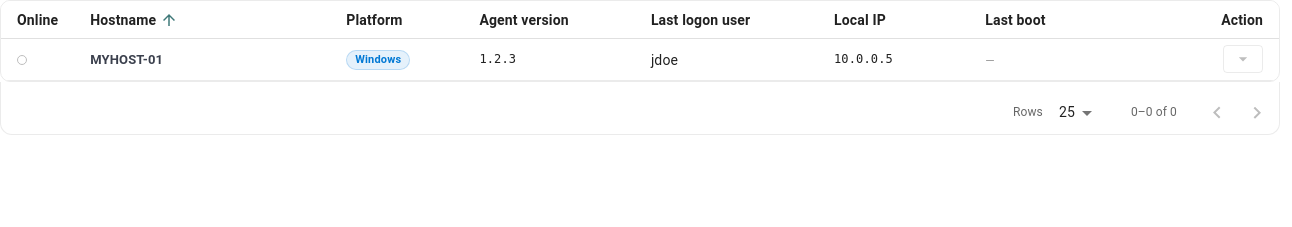
Test case: More actions menu › lists Patch Management, Remote Control and Jobs
The image size is (1292, 227).
Click the button named "More actions for this device": click(1243, 59) [1223,45,1263,73]
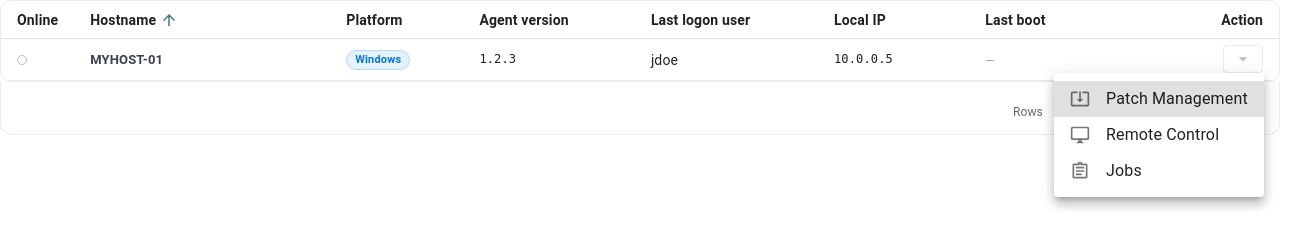
Check: the text "Patch Management" is shown, box [1106,87,1248,111]
Check: the text "Remote Control" is shown, box [1106,125,1219,144]
Check: the text "Jobs" is shown, box [1106,161,1142,180]
